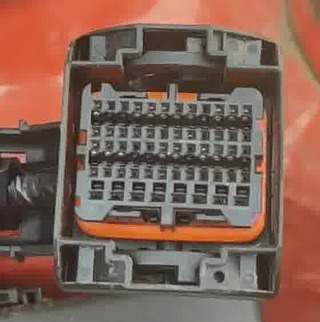connector: (53, 23, 283, 299)
